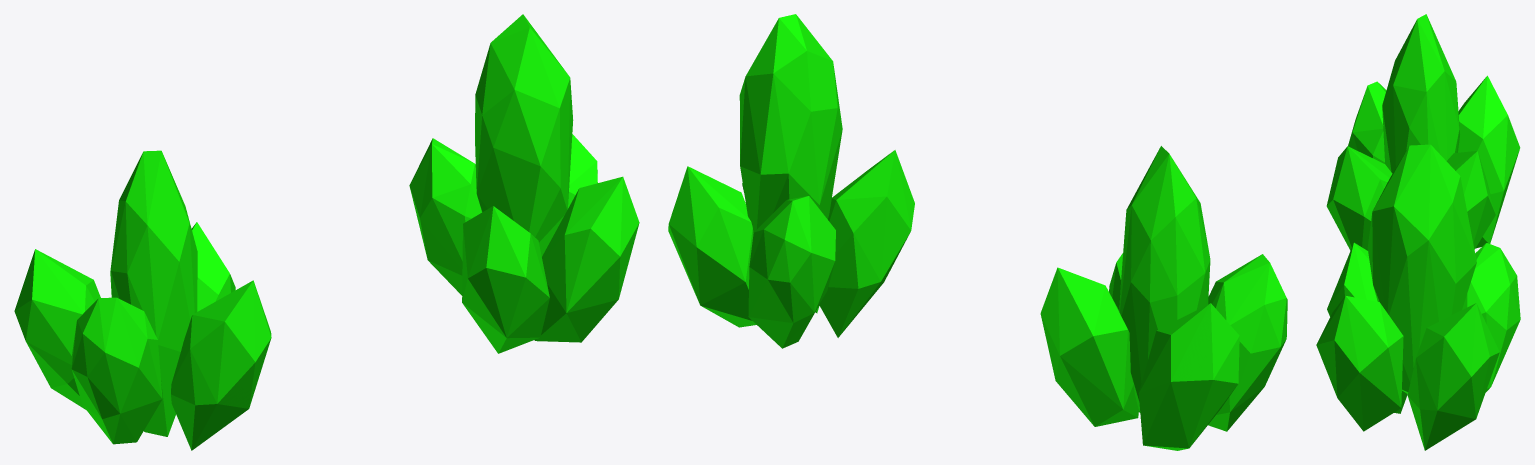
The model's file is cristais.glb.
3 renders of one model, left to right at view 1: azimuth 30°, elevation 25°; view 2: azimuth 150°, elevation 25°; view 3: azimuth 270°, elevation 25°, orthographic. The views are drawn at different scales.
Visible parts, largest first — view 1: Cube.001, Cube.003; view 2: Cube.001, Cube.003; view 3: Cube.001, Cube.003.
Boxes of the visible parts, box(x1,y1,x2,y2) form: Cube.001: box(409, 14, 639, 353); Cube.003: box(14, 150, 271, 450); Cube.001: box(668, 14, 914, 348); Cube.003: box(1040, 146, 1287, 450); Cube.001: box(1316, 144, 1520, 450); Cube.003: box(1326, 14, 1520, 250).
Bounding box in the file's own units: 10.58 × 5.94 × 3.68.
